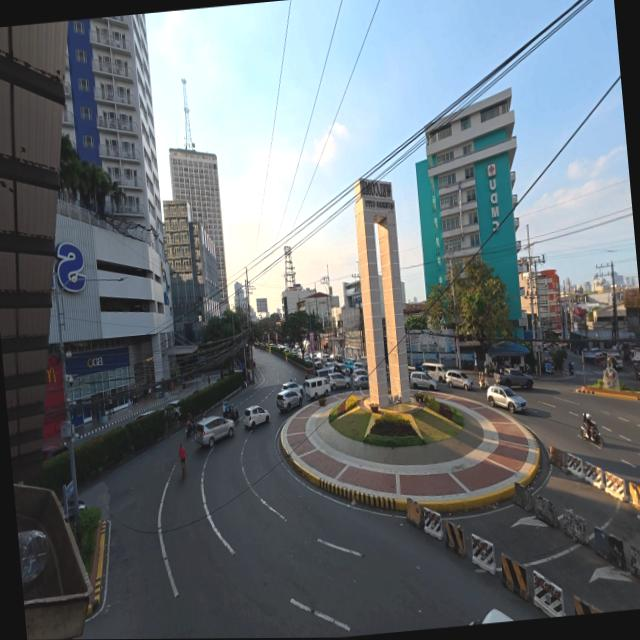vans: (303, 378, 329, 399), (421, 363, 446, 382), (315, 368, 329, 378)
